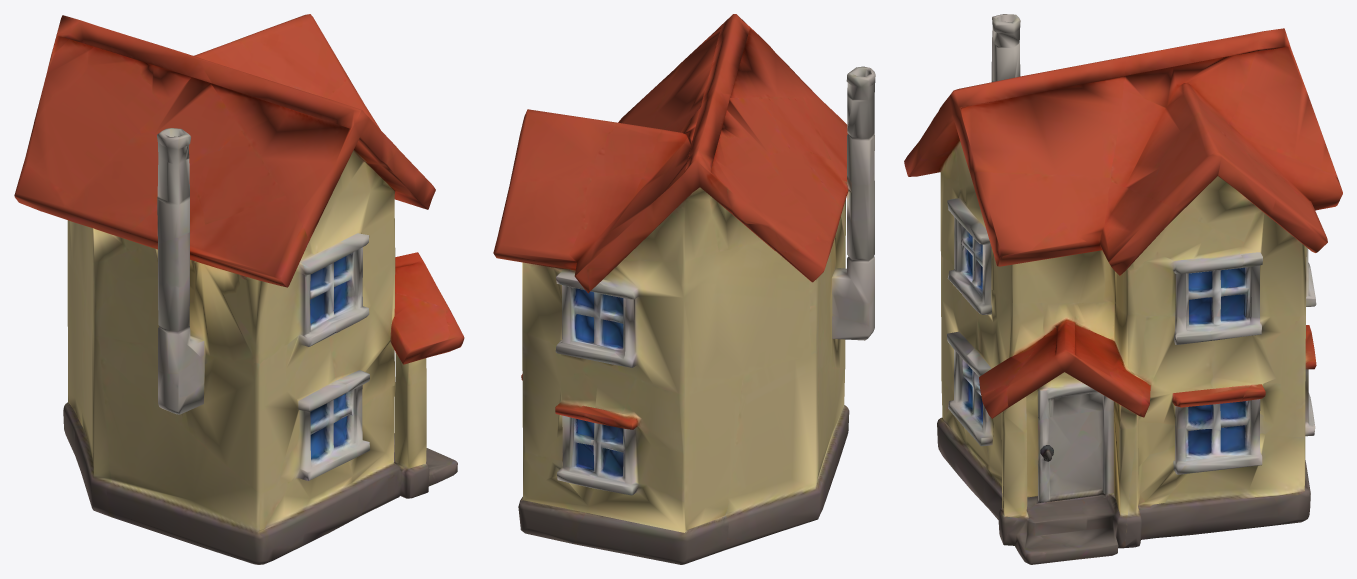
The model's file is house.glb.
The picture shows the model from 3 angles, left to right: view 1: azimuth 30°, elevation 25°; view 2: azimuth 150°, elevation 25°; view 3: azimuth 270°, elevation 25°; orthographic projection. The views are drawn at different scales.
Parts seen in each view (by area): view 1: tripo_node_29ce6036-31bb-4125-b462-1283fcfbe3c6; view 2: tripo_node_29ce6036-31bb-4125-b462-1283fcfbe3c6; view 3: tripo_node_29ce6036-31bb-4125-b462-1283fcfbe3c6.
Boxes of the visible parts, bbox=[...] form: tripo_node_29ce6036-31bb-4125-b462-1283fcfbe3c6: bbox=[14, 14, 464, 564]; tripo_node_29ce6036-31bb-4125-b462-1283fcfbe3c6: bbox=[493, 14, 875, 564]; tripo_node_29ce6036-31bb-4125-b462-1283fcfbe3c6: bbox=[904, 14, 1342, 564].
Bounding box in the file's own units: 0.8728 × 0.9997 × 0.9602.
Materials: 1 (1 with a texture image).
